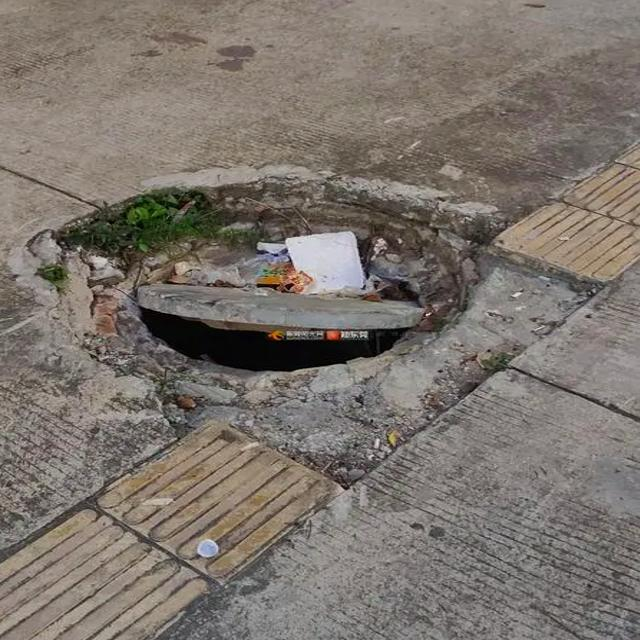circle: (0, 157, 573, 467)
